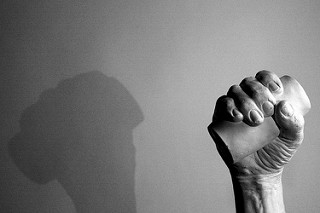fist: (217, 73, 300, 173)
